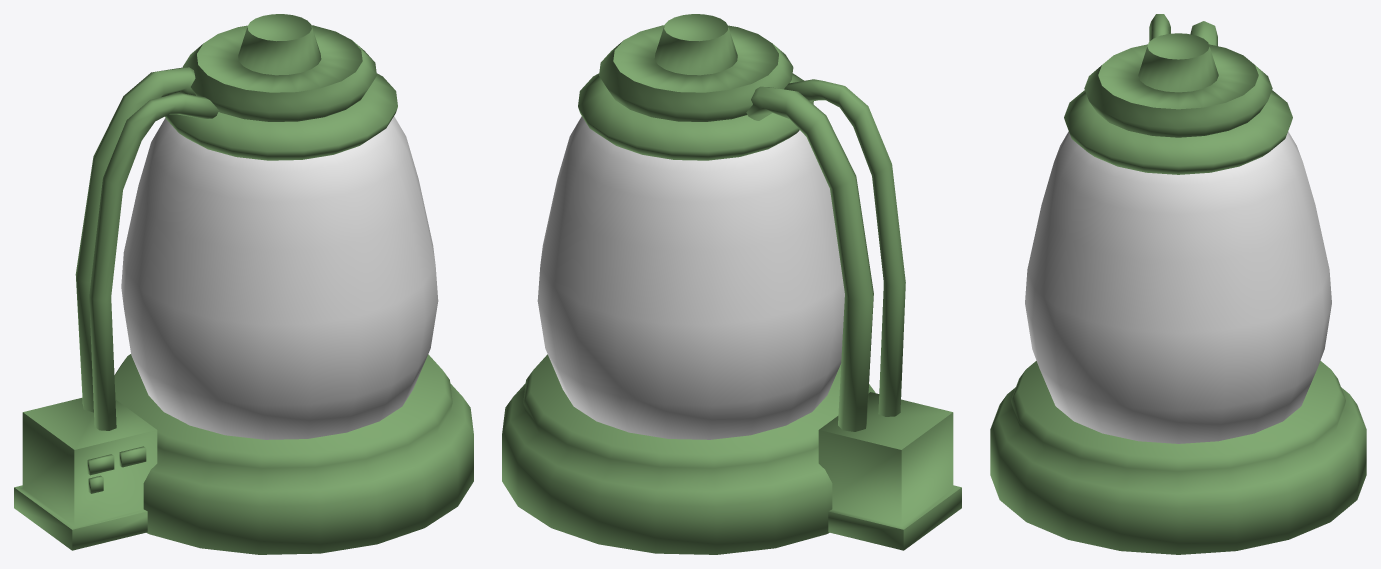
Rendered from eggcubator.fbx.
The picture shows the model from 3 angles, left to right: view 1: azimuth 30°, elevation 25°; view 2: azimuth 150°, elevation 25°; view 3: azimuth 270°, elevation 25°; orthographic projection. The views are drawn at different scales.
Parts seen in each view (by area): view 1: incubator; view 2: incubator; view 3: incubator.
Boxes of the visible parts, x1,y1,x2,y2 form: incubator: (14,14,473,554); incubator: (502,14,961,554); incubator: (990,14,1366,554).
Bounding box in the file's own units: 136 × 143 × 113.
